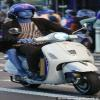motorcycles: (30, 35, 100, 98)
